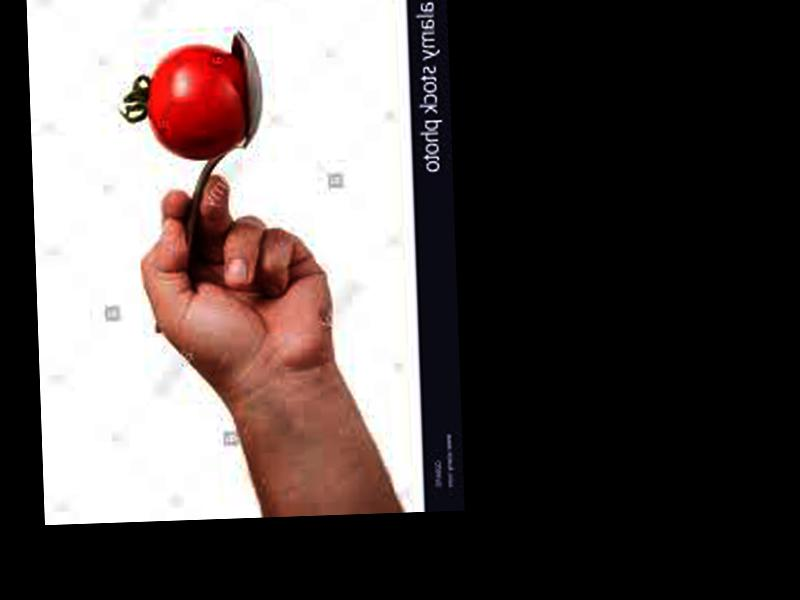Tomato: (144, 45, 246, 162)
